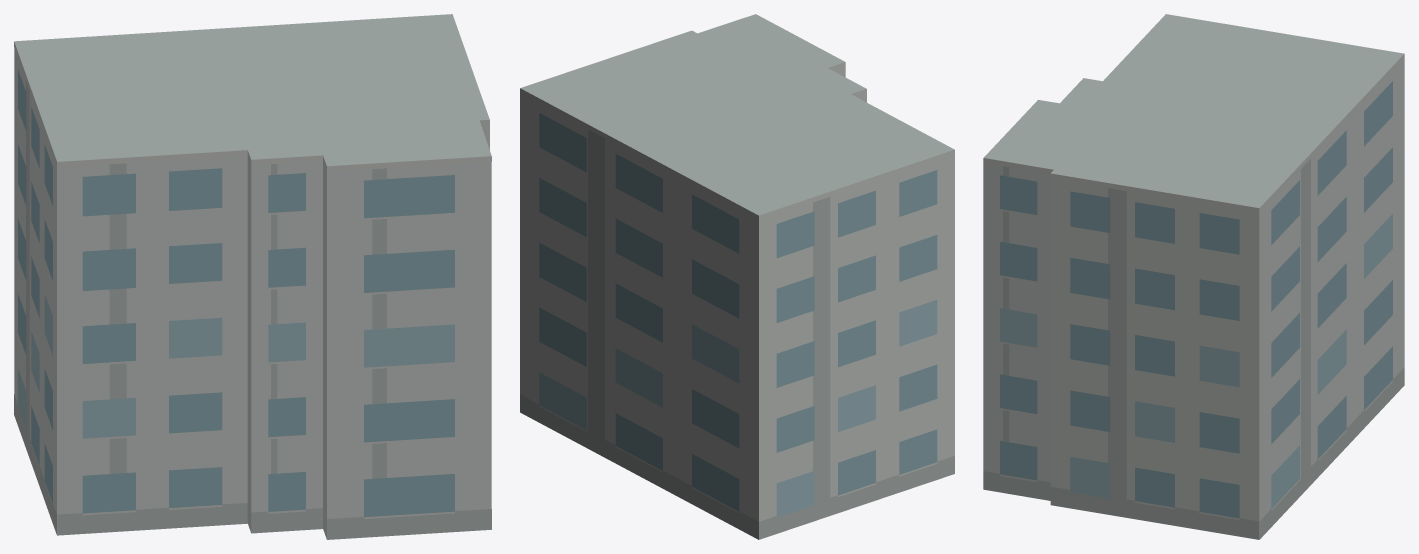
File: survey-upis-32733360.glb
The picture shows the model from 3 angles, left to right: view 1: azimuth 30°, elevation 25°; view 2: azimuth 150°, elevation 25°; view 3: azimuth 270°, elevation 25°; orthographic projection. The views are drawn at different scales.
Visible parts, largest first — view 1: survey-upis-32733360.tmp; view 2: survey-upis-32733360.tmp; view 3: survey-upis-32733360.tmp.
Part boxes in pixels (x1,y1,x2,y2): survey-upis-32733360.tmp: [14, 14, 491, 539]; survey-upis-32733360.tmp: [520, 14, 954, 539]; survey-upis-32733360.tmp: [983, 14, 1404, 539].
Bounding box in the file's own units: 19.97 × 15.9 × 18.3.
